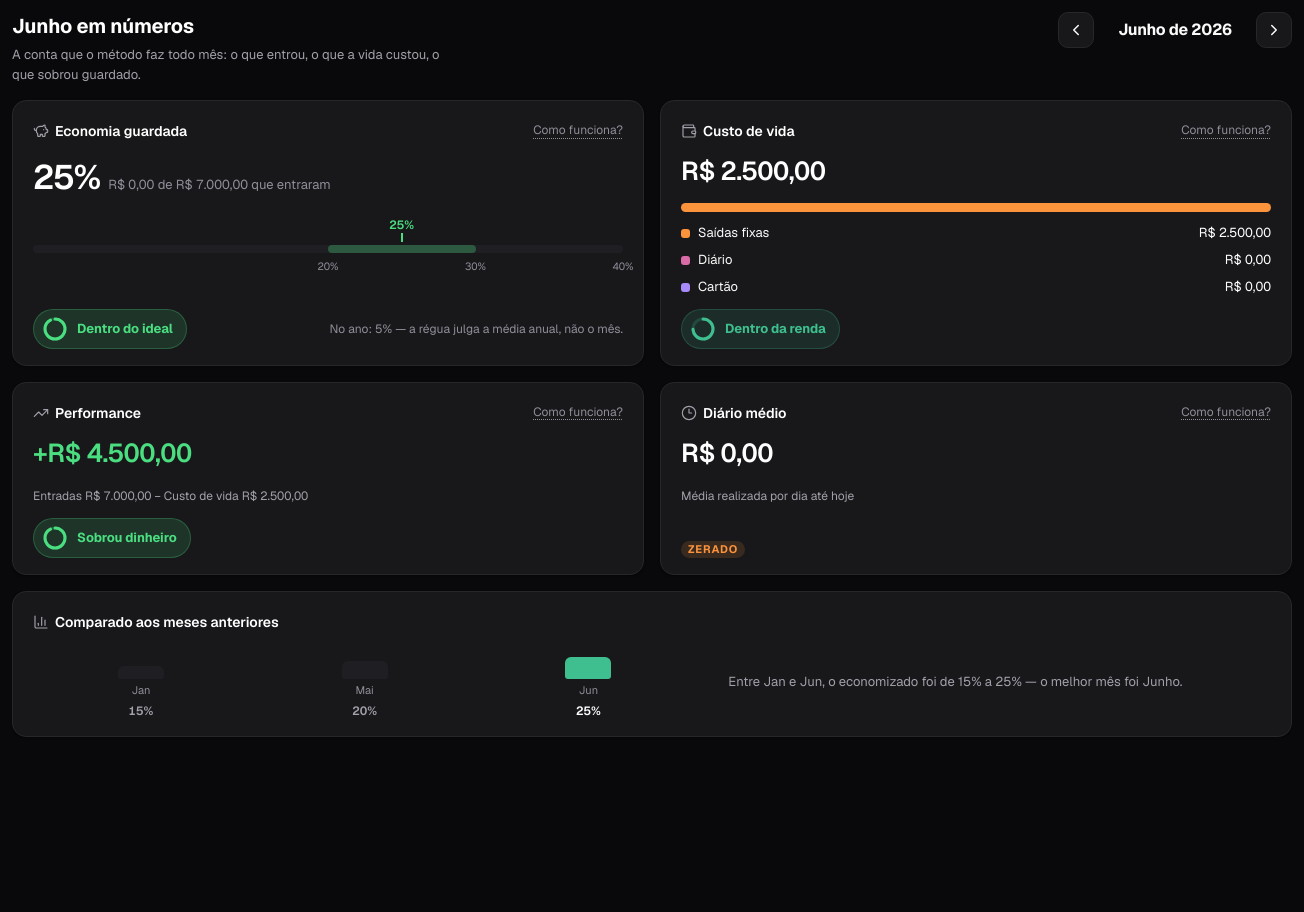
Scenario: TotaisScreen (render) › série do economizado inclui meses realizados vindos do annual metrics
Expected: the button with aria-label "Junho: 25% — ver o mês" is shown, left=480, top=644, right=696, bottom=720
Expected: the text "Entre Jan e Jun, o economizado foi de 15% a 25% — o melhor mês foi Junho." is shown, left=728, top=673, right=1182, bottom=690
# Clicar numa barra navega para o mês dela.
Click the button with aria-label "Maio: 20% — ver o mês".
click(365, 682)  # box left=257, top=644, right=473, bottom=720
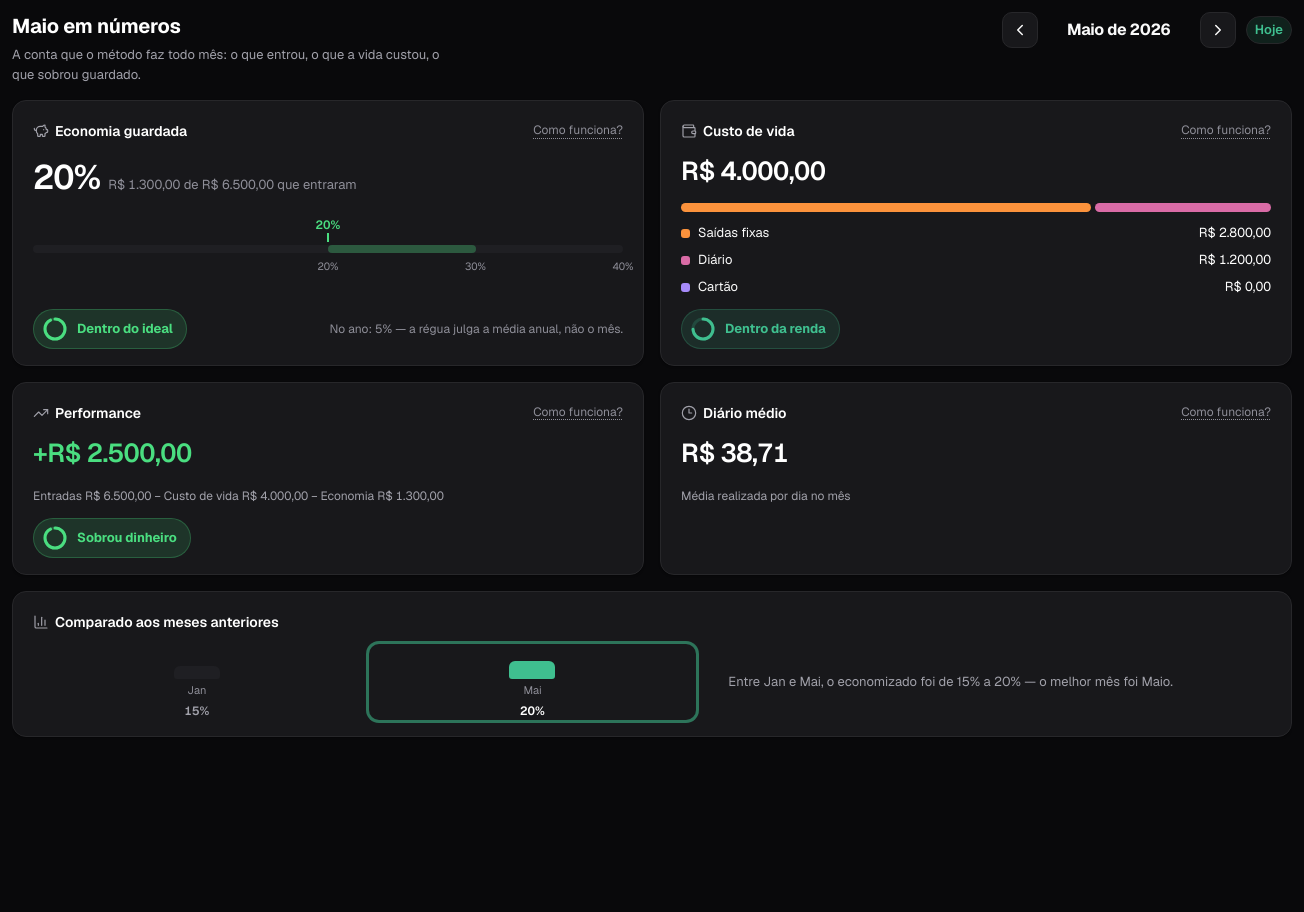
Expected: the button "Hoje" is shown, left=1246, top=16, right=1292, bottom=44
Now the text "Maio de 2026" is shown, box left=1067, top=19, right=1170, bottom=40
